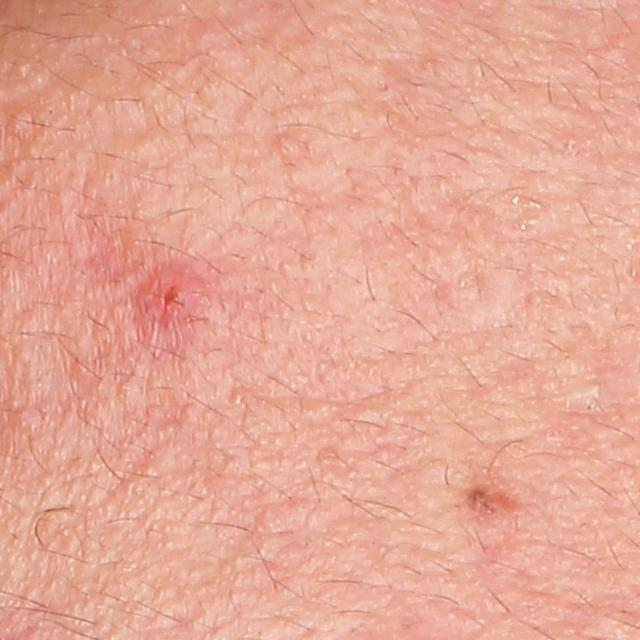comedo: (276, 133, 310, 164)
nevus: (462, 481, 523, 529)
papule: (133, 264, 211, 336)
